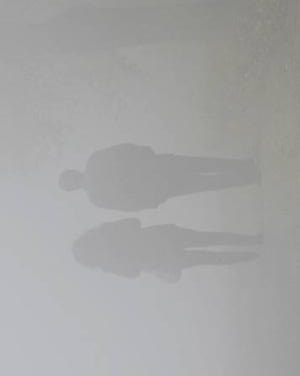person: (56, 143, 263, 211), (72, 217, 262, 283)
